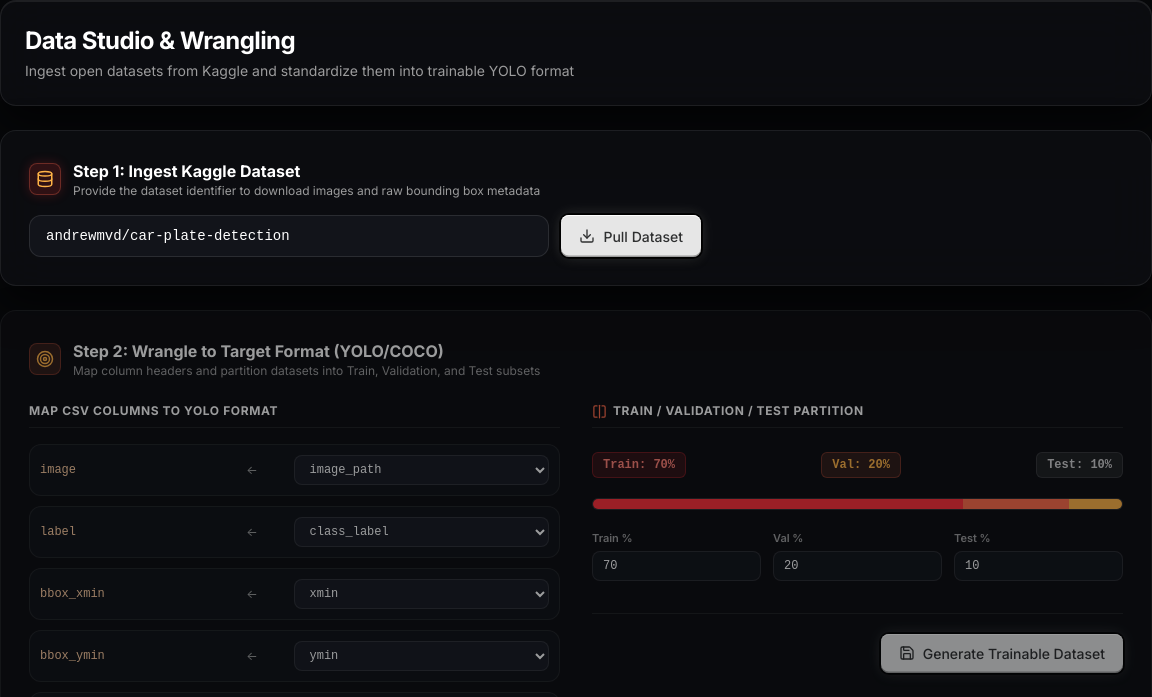
Test: DataStudio Page › pulls dataset successfully when credentials exist in localStorage
Click the button "Pull Dataset": (631,236) [561,215,701,257]
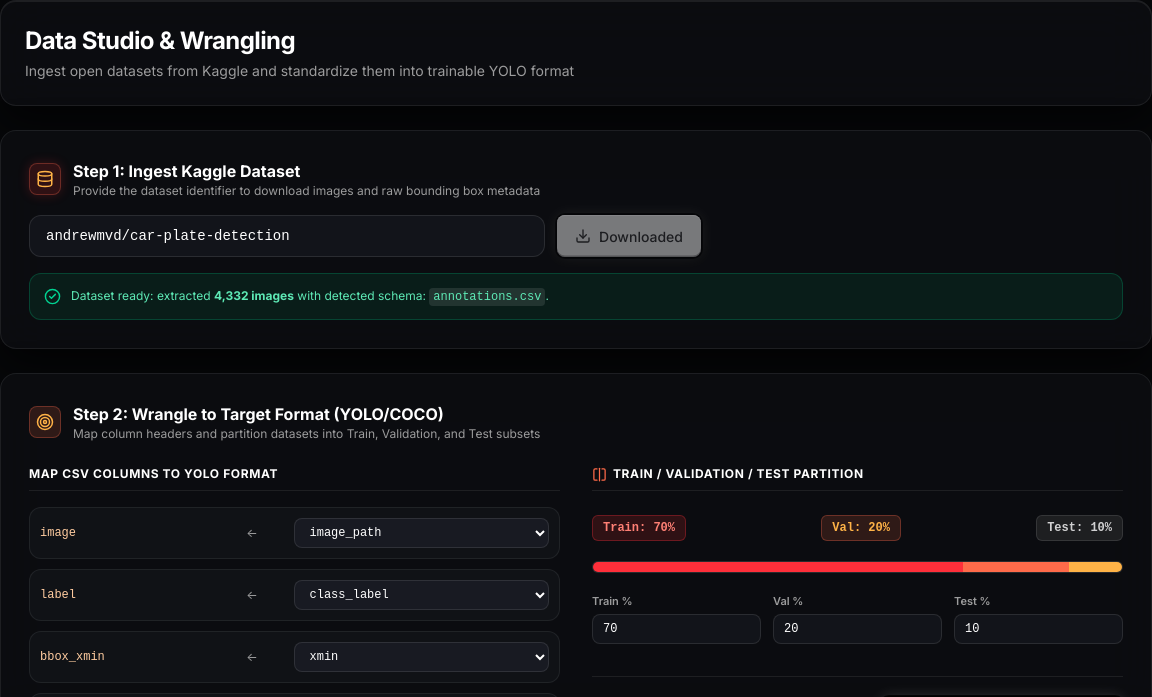
Expected: the text "4,332 images" is shown, [214,288,294,303]
